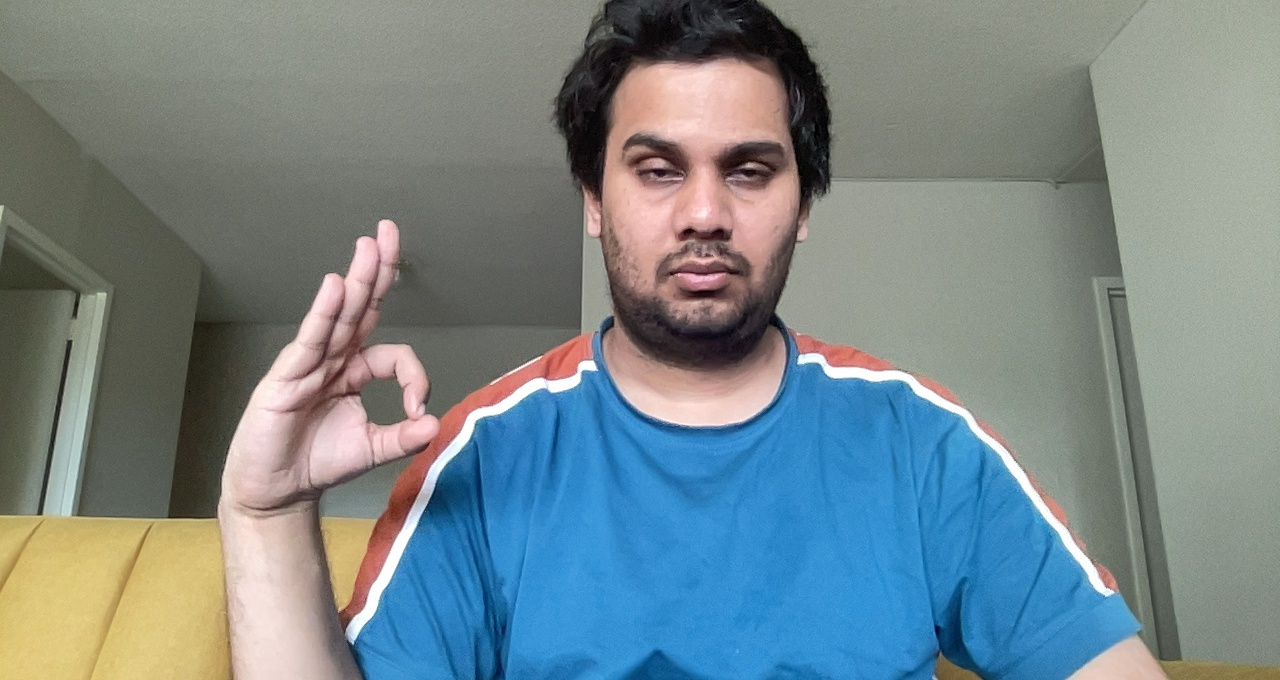ok: (246, 211, 453, 495)
